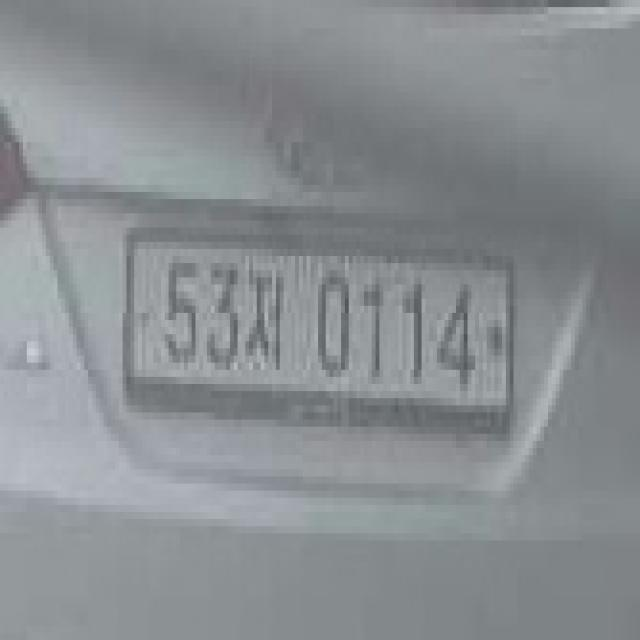0: (310, 249, 360, 398)
1: (395, 249, 437, 391), (356, 256, 391, 391)
3: (196, 228, 246, 398)
4: (437, 263, 494, 413)
5: (157, 249, 199, 377)
jeo: (242, 263, 288, 384)
license_plate: (115, 199, 525, 427)
